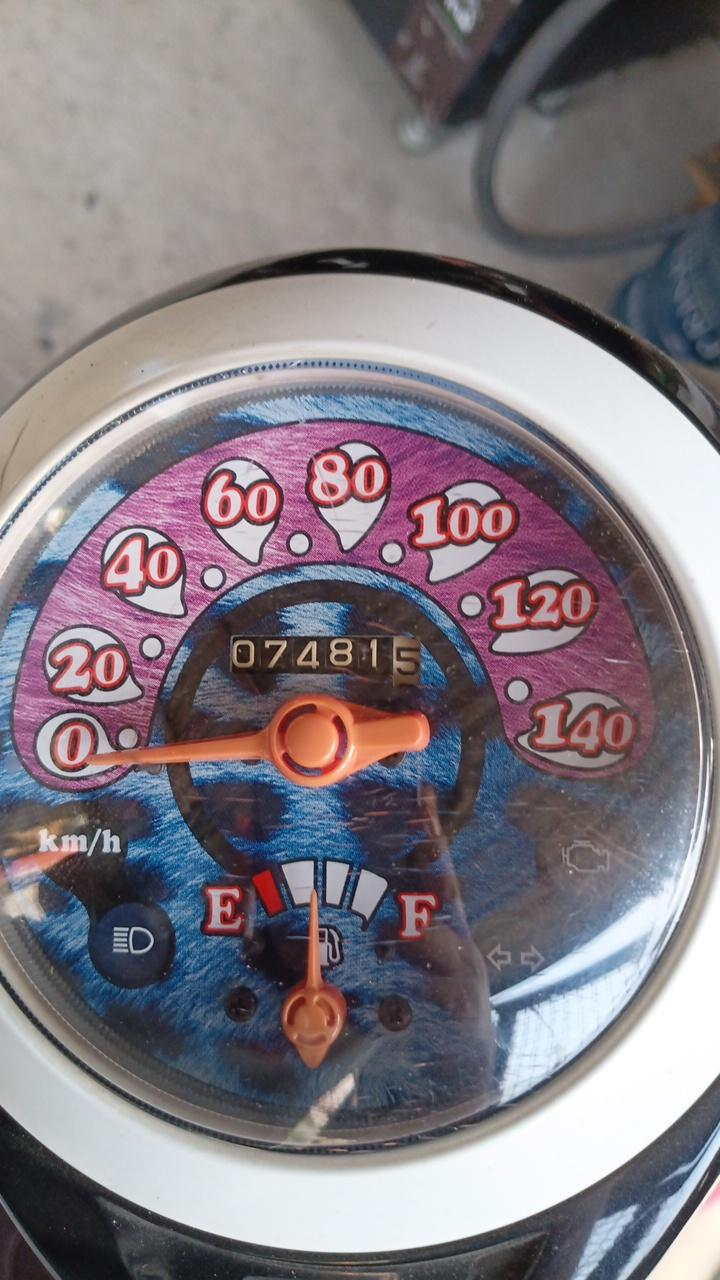0: (232, 638, 255, 668)
1: (369, 638, 379, 668)
4: (295, 640, 320, 669)
5: (395, 645, 421, 677)
7: (264, 639, 288, 668)
8: (329, 637, 353, 668)
odometer: (229, 633, 422, 693)
